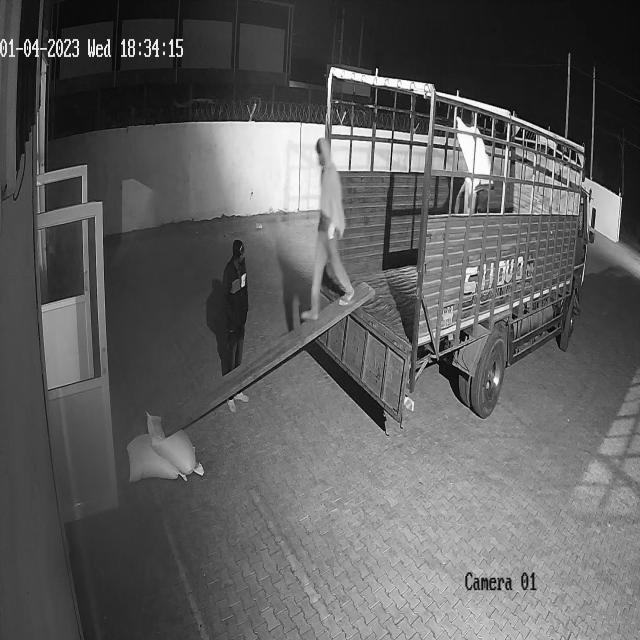sack: (145, 411, 204, 474), (126, 434, 188, 483), (455, 116, 494, 186)
